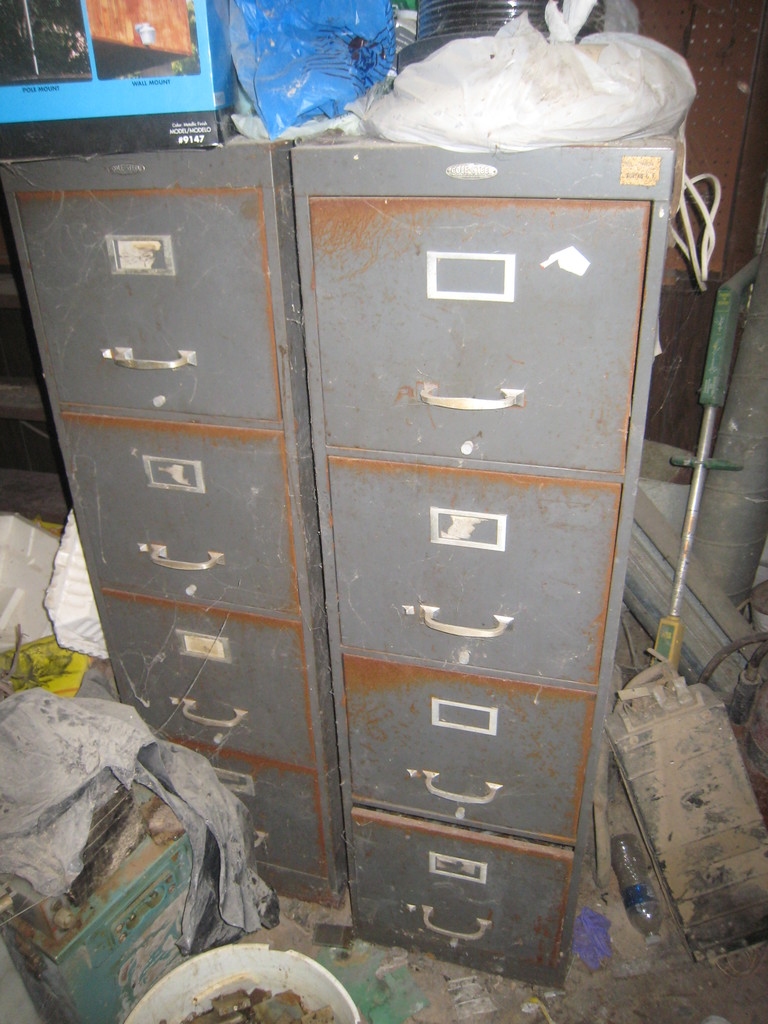cabinet door: (323, 219, 628, 459), (347, 476, 601, 676), (39, 201, 269, 415), (76, 441, 292, 610), (359, 687, 566, 836), (385, 845, 556, 977), (137, 636, 301, 751)
handle: (427, 371, 533, 432), (422, 600, 512, 658), (100, 340, 197, 380), (147, 538, 229, 585), (422, 778, 498, 821), (183, 697, 256, 734), (424, 905, 493, 944)
